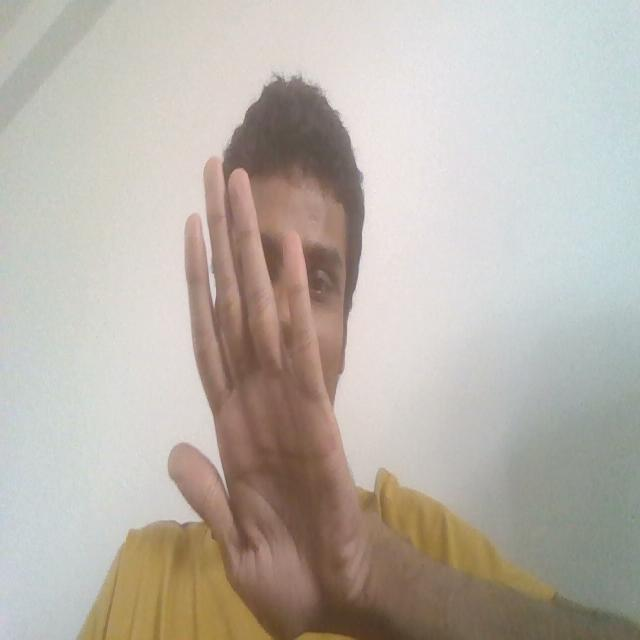Hello: (160, 139, 369, 640)
